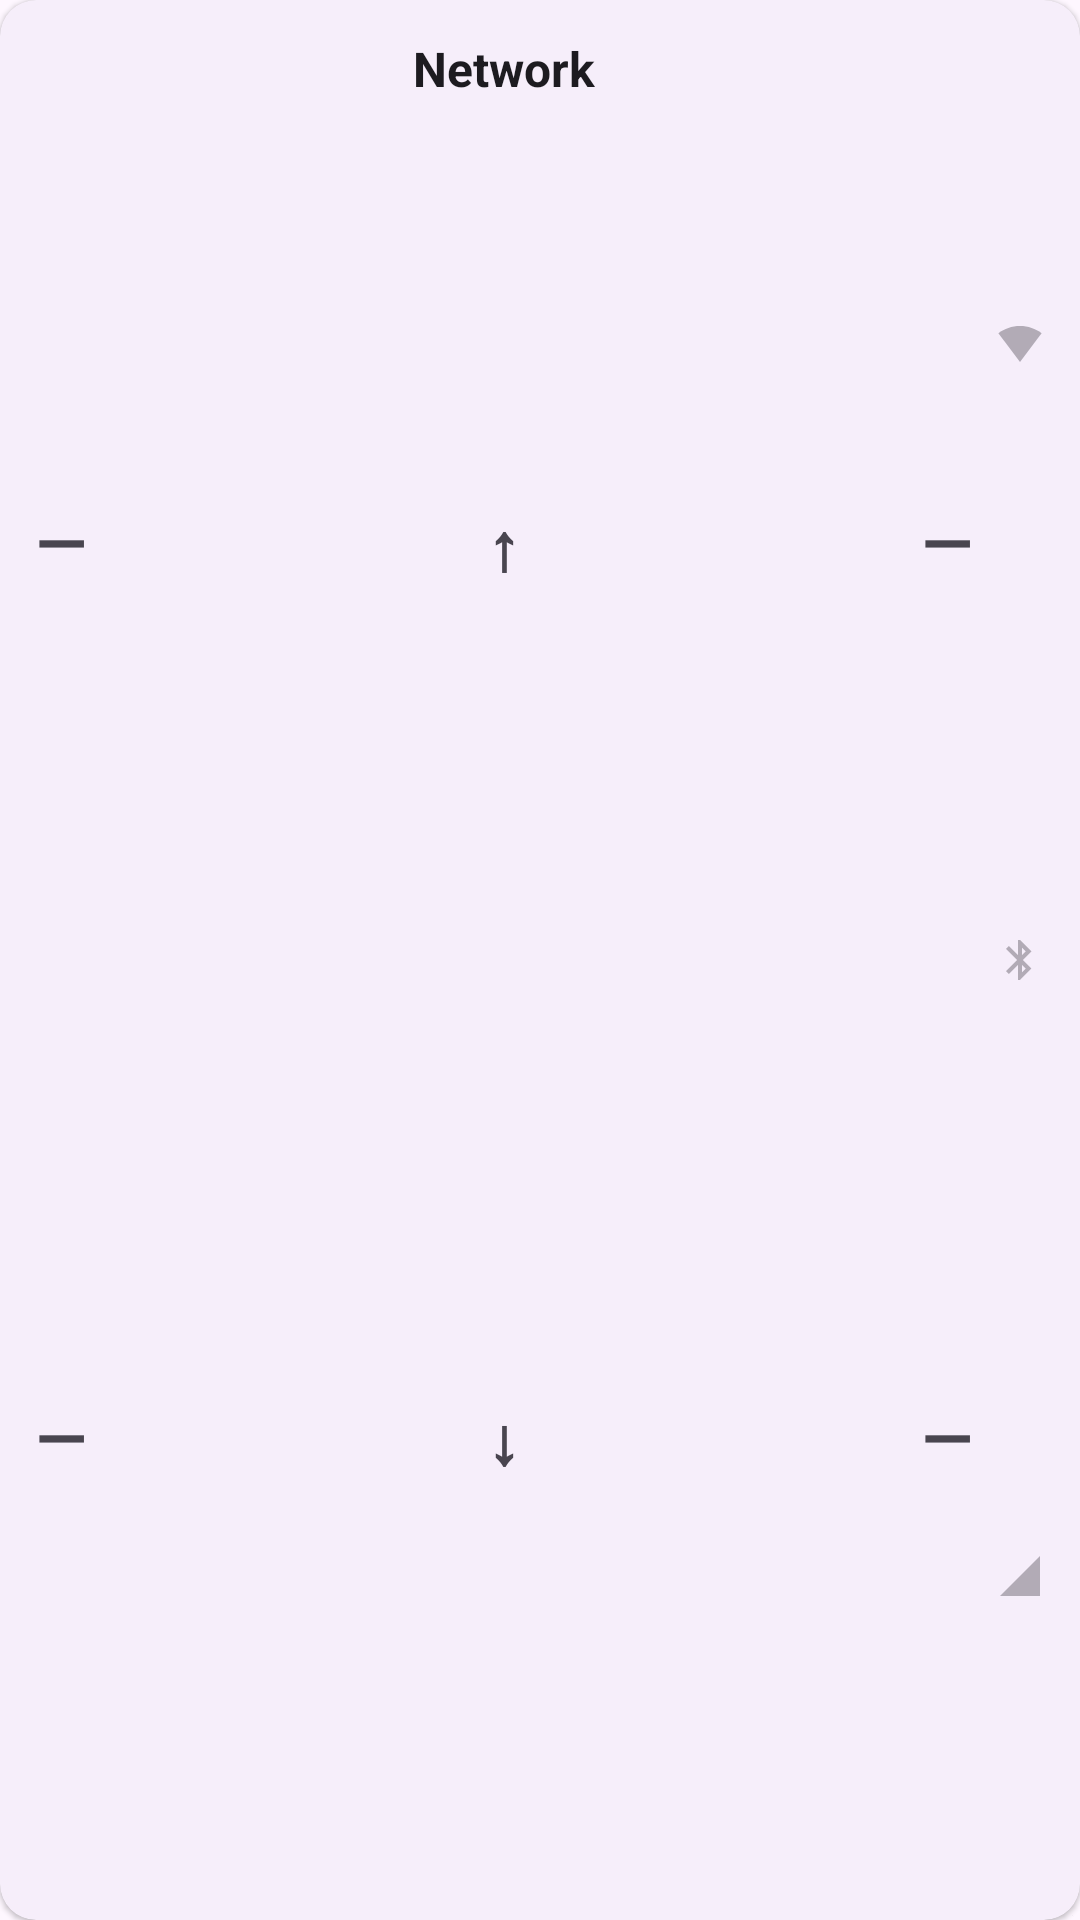

Point at icon controls on the screen. Image size 1080w x 1920h, points as (x=x, y=y).
SIM Signal: (x=1020, y=1576)
Wi-Fi: (x=1020, y=344)
